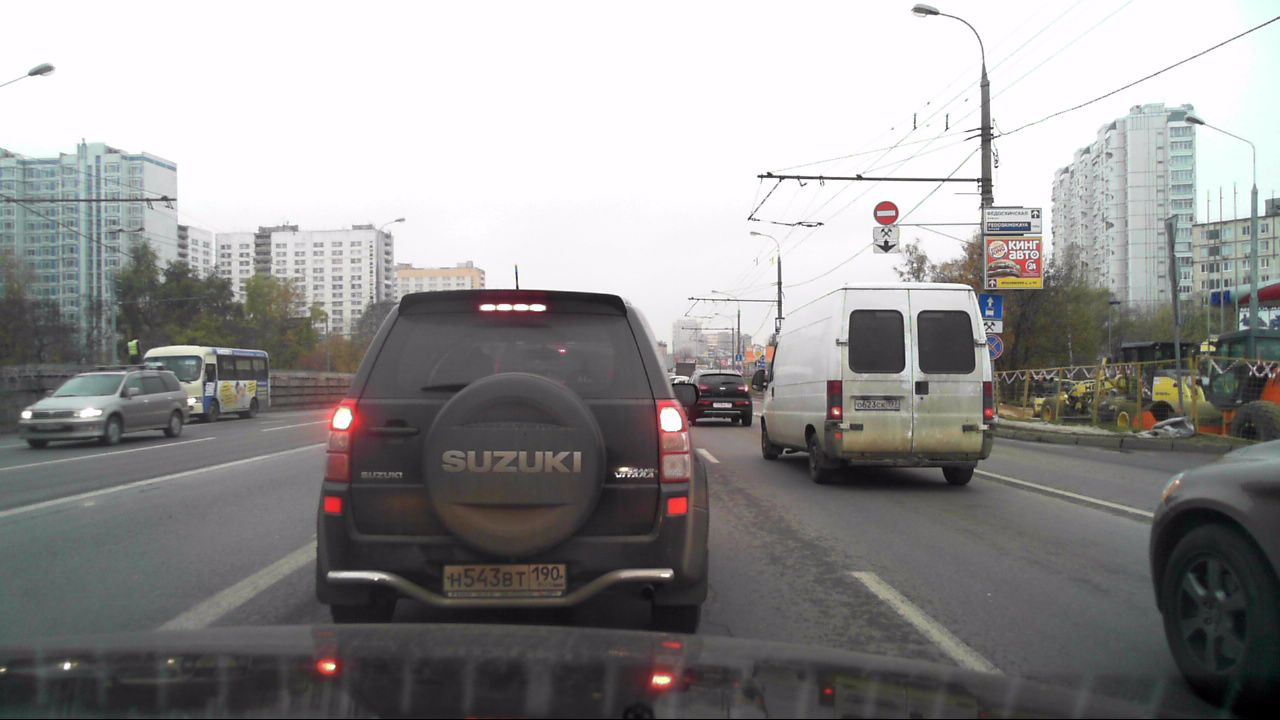No Parking: (980, 335, 1005, 360)
